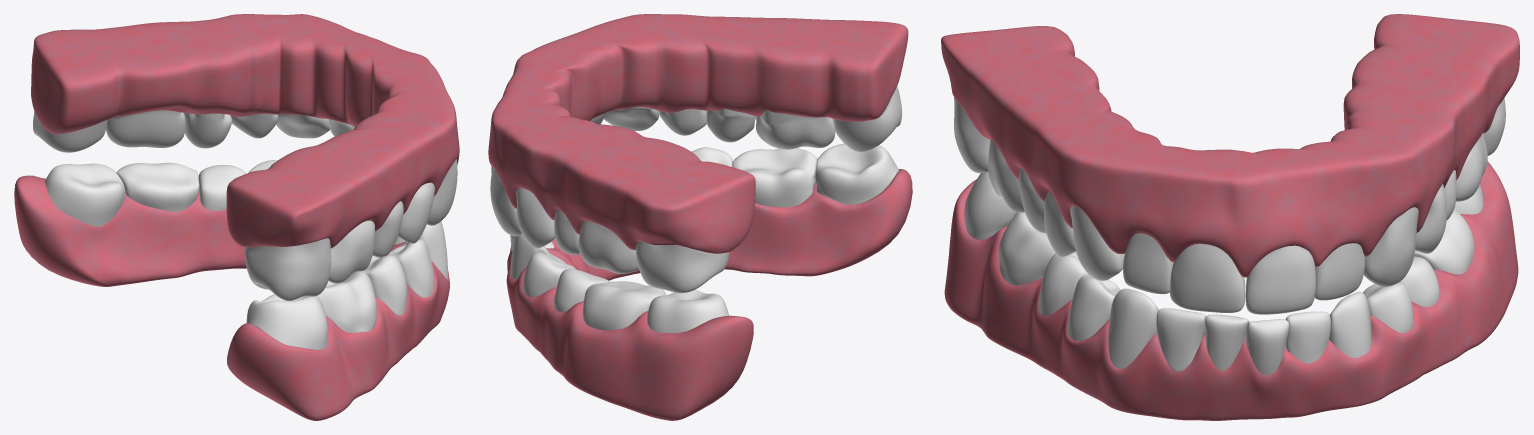
File: mouth_test.glb
3 views of the same model, side by side, from view 1: azimuth 30°, elevation 25°; view 2: azimuth 150°, elevation 25°; view 3: azimuth 270°, elevation 25° (orthographic). The views are drawn at different scales.
Visible parts, largest first — view 1: GeometryNode_23, GeometryNode_14, GeometryNode_3; view 2: GeometryNode_23, GeometryNode_14, GeometryNode_3; view 3: GeometryNode_23, GeometryNode_14, GeometryNode_3.
Boxes of the visible parts, x1,y1,x2,y2 form: GeometryNode_23: [14, 14, 459, 420]; GeometryNode_14: [45, 160, 447, 349]; GeometryNode_3: [33, 110, 457, 300]; GeometryNode_23: [488, 14, 912, 420]; GeometryNode_14: [510, 143, 899, 332]; GeometryNode_3: [490, 86, 902, 292]; GeometryNode_23: [941, 14, 1519, 420]; GeometryNode_14: [964, 172, 1483, 375]; GeometryNode_3: [954, 97, 1505, 314].
Bounding box in the file's own units: 49.77 × 31.84 × 65.43.
Materials: 3 (1 with a texture image).
